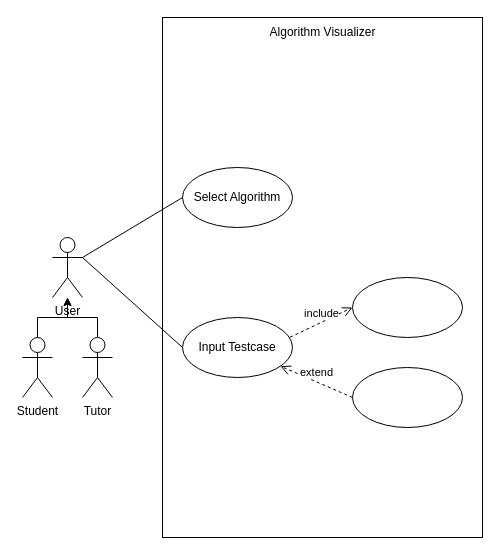
The diagram is 500 pixels wide and 555 high, and some of its shapes have lost their labels. Each missing label, with the centre of its shape:
Display visualizer: [407,307]
Error incorrect input: [407,397]
